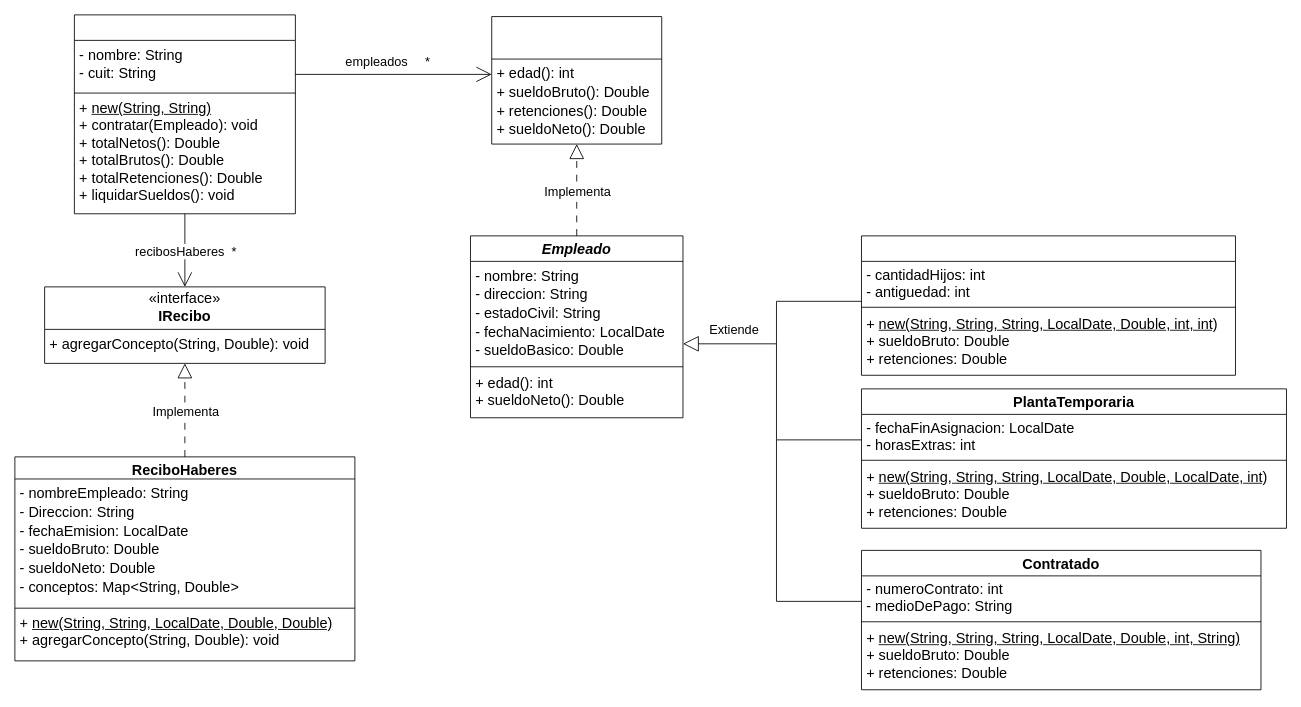
Some shapes in this 1301 by 707 pixel diagram are drawn without their labels. The box of each missing label's shape, as (x1, y1, x2, y2) in pixels:
Empresa: (74, 14, 295, 214)
PlantaPermanente: (861, 235, 1235, 375)
«interface» IEmpleado: (491, 16, 662, 144)
